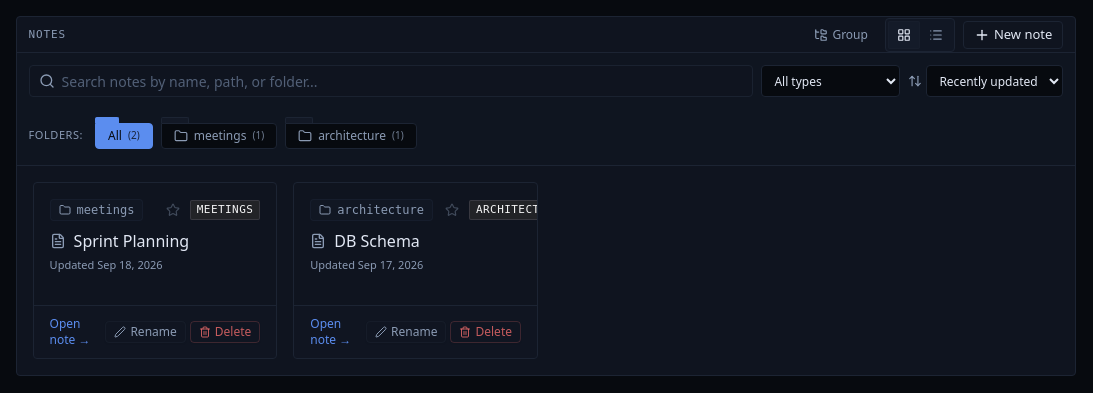
VaultNotesPage › allows pinning/favoriting a note to top
This screenshot has width=1093, height=393.
Check: the link "Sprint Planning" is shown, box [50,230,189,252]
Click the button named "Favorite DB Schema": (452, 210) [441,199,463,221]
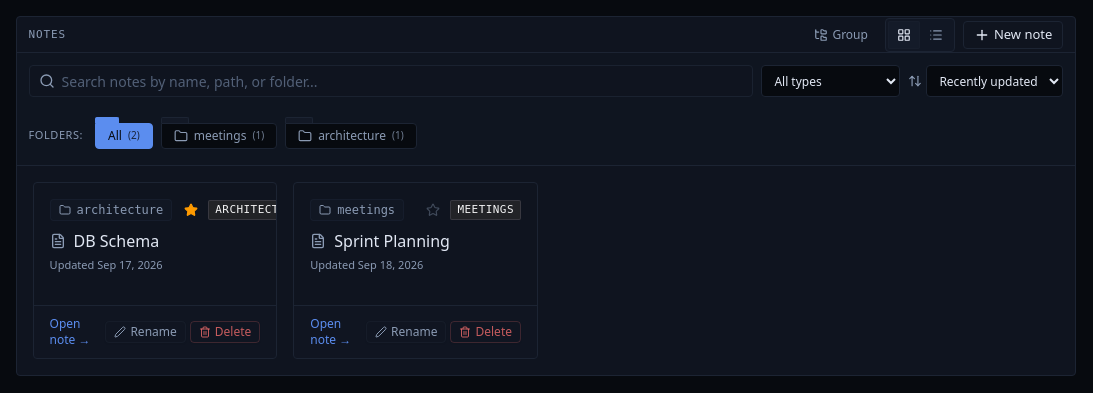
Check: the button named "Unfavorite DB Schema" is shown, box [180,199,202,221]
